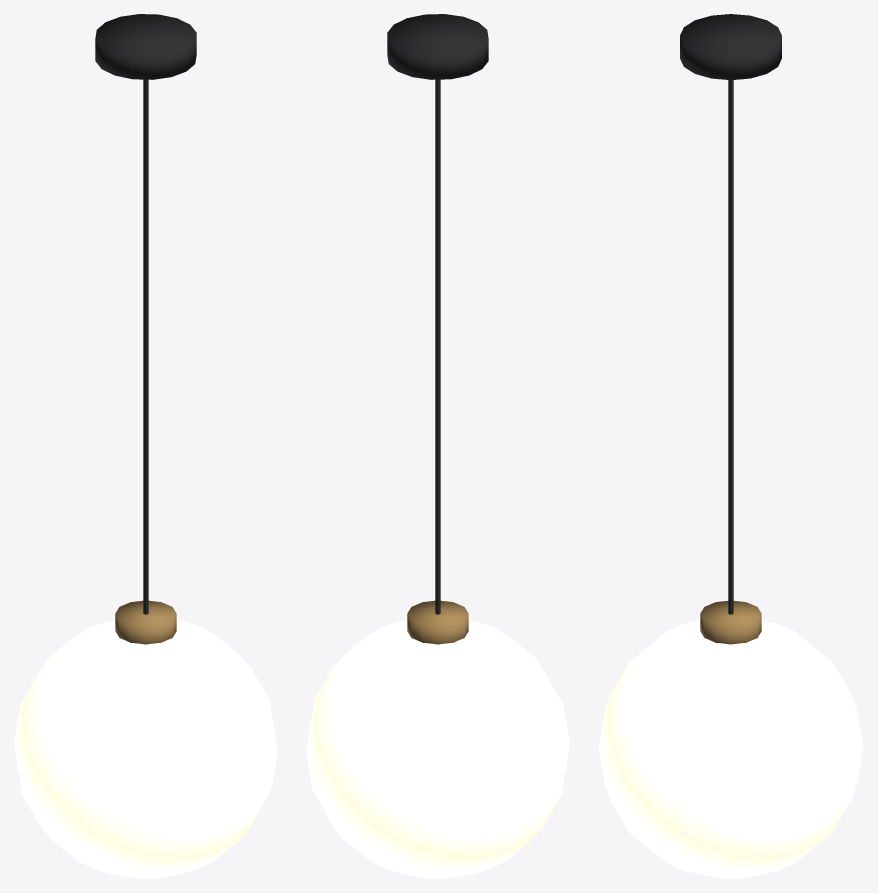
The model's file is i_pend_4.glb.
The picture shows the model from 3 angles, left to right: view 1: azimuth 30°, elevation 25°; view 2: azimuth 150°, elevation 25°; view 3: azimuth 270°, elevation 25°; orthographic projection.
Visible parts, largest first — view 1: o.001, o.003, o, o.002; view 2: o.001, o.003, o, o.002; view 3: o.001, o.003, o, o.002.
Boxes of the visible parts, bbox=[...] form: o.001: bbox=[14, 620, 277, 878]; o.003: bbox=[95, 14, 196, 79]; o: bbox=[143, 79, 148, 614]; o.002: bbox=[115, 600, 176, 644]; o.001: bbox=[306, 620, 569, 878]; o.003: bbox=[387, 14, 488, 79]; o: bbox=[435, 79, 440, 614]; o.002: bbox=[407, 600, 468, 644]; o.001: bbox=[598, 620, 863, 878]; o.003: bbox=[680, 14, 781, 80]; o: bbox=[728, 80, 733, 614]; o.002: bbox=[700, 600, 761, 644].
Size of the model in its own units: 0.26 by 0.9 by 0.26.
